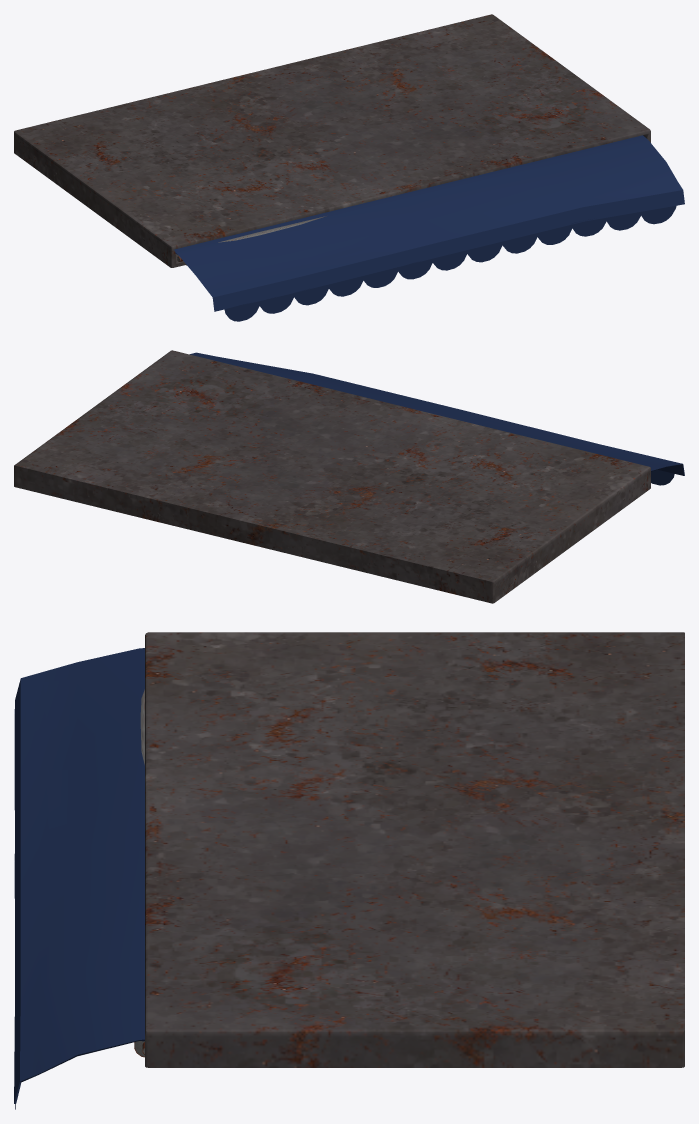
The model's file is DevantureToileEpicerie.fbx.
3 renders of one model, top to bottom at view 1: azimuth 30°, elevation 25°; view 2: azimuth 150°, elevation 25°; view 3: azimuth 270°, elevation 25°, orthographic. The views are drawn at different scales.
Visible parts, largest first — view 1: polySurface1082; view 2: polySurface1082; view 3: polySurface1082.
Boxes of the visible parts, x1,y1,x2,y2 form: polySurface1082: (14,14,684,321); polySurface1082: (14,350,684,603); polySurface1082: (14,632,684,1109).
Size of the model in its own units: 0.3896 by 0.0454 by 0.2763.
3 materials, 3 textured.
